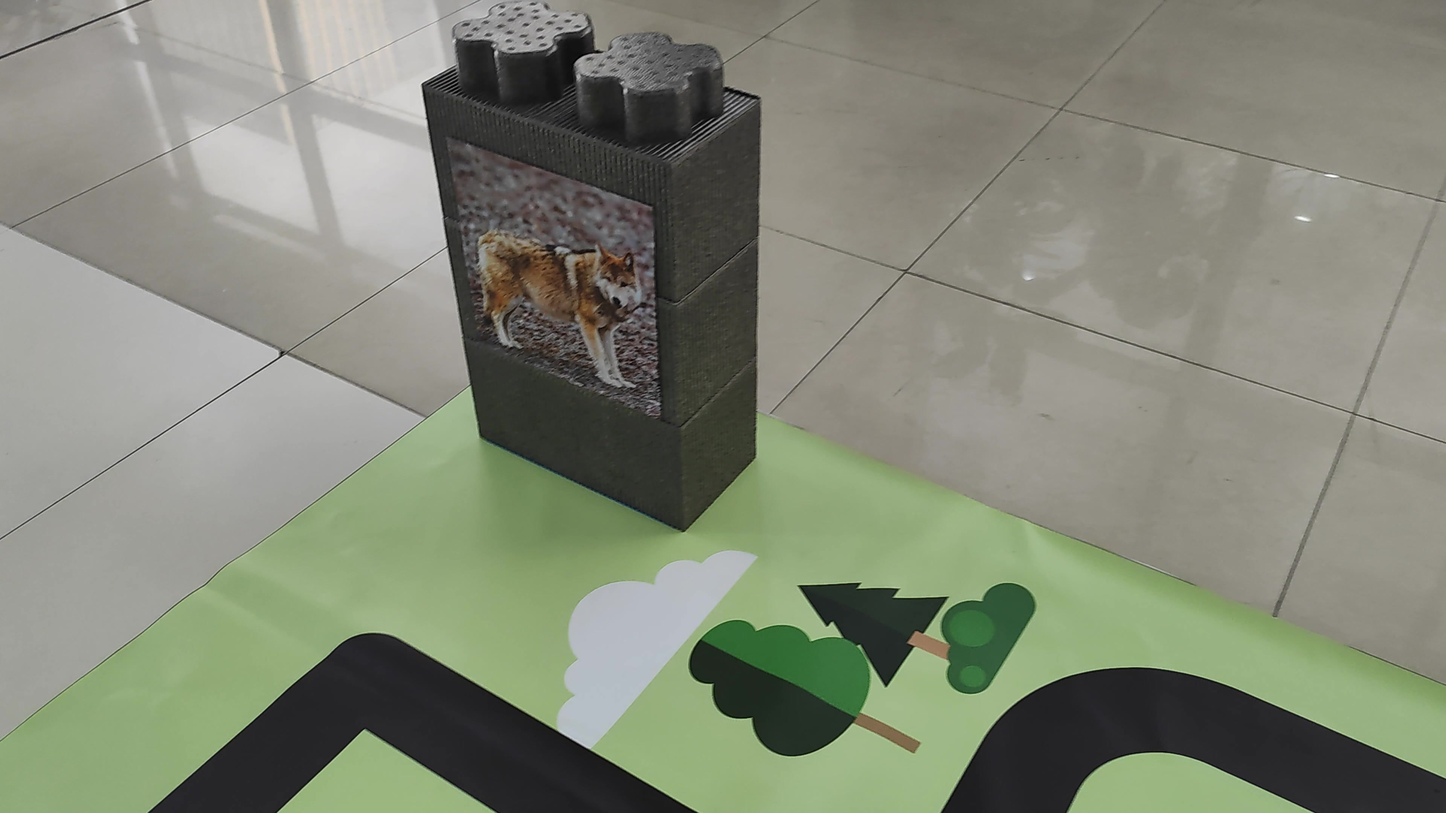wolf: (453, 186, 639, 391)
